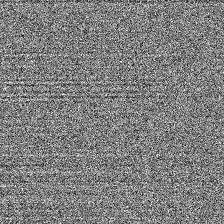cavities: (32, 55, 124, 222)
